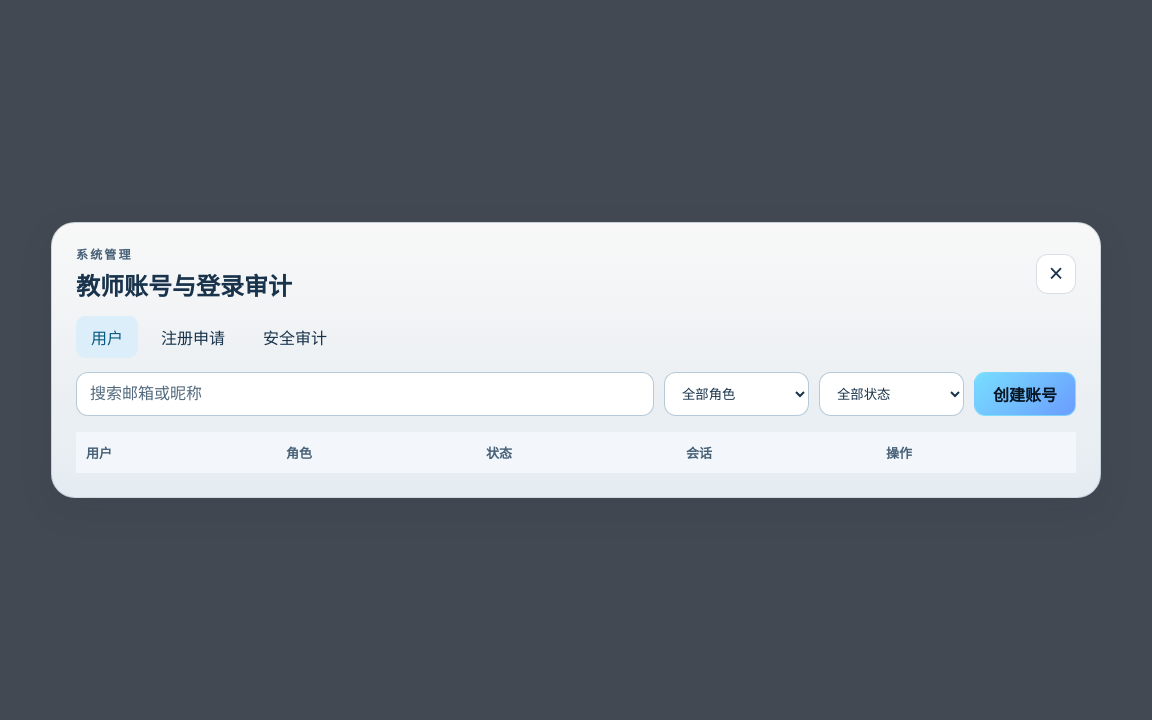
Test: UserManagementPanel › approves a pending request after confirmation and refreshes both lists
Click the button "注册申请" at (193, 337), box [146,316,240,358]
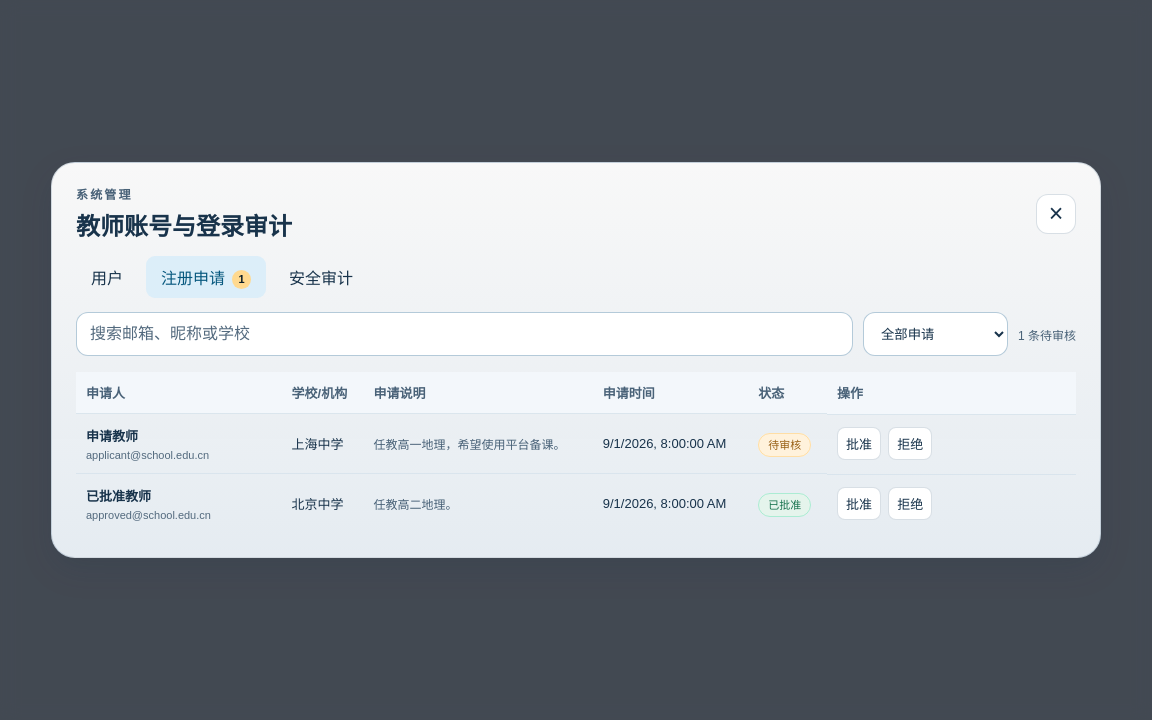
Expected: the text "applicant@school.edu.cn" is shown, [86,449,209,461]
Click the button "批准" in the row of "申请教师" at (859, 443), box [837,426,881,460]
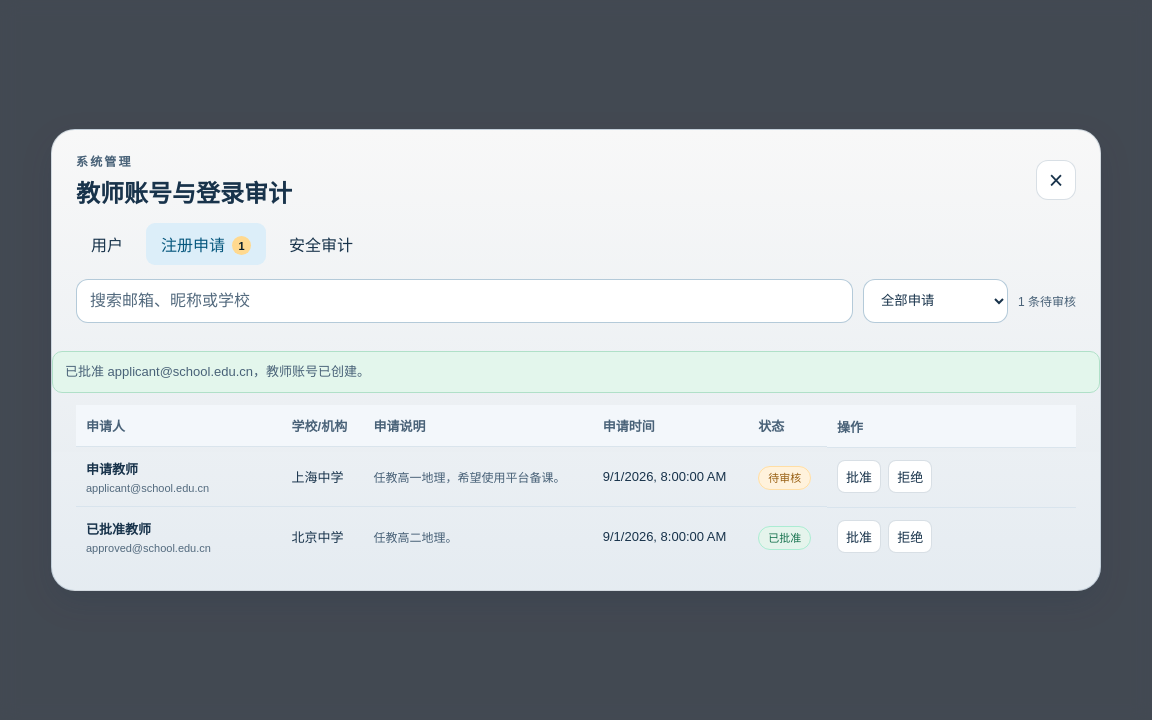
Expected: the text "已批准 applicant@school.edu.cn，教师账号已创建。" is shown, [52,351,1100,393]
